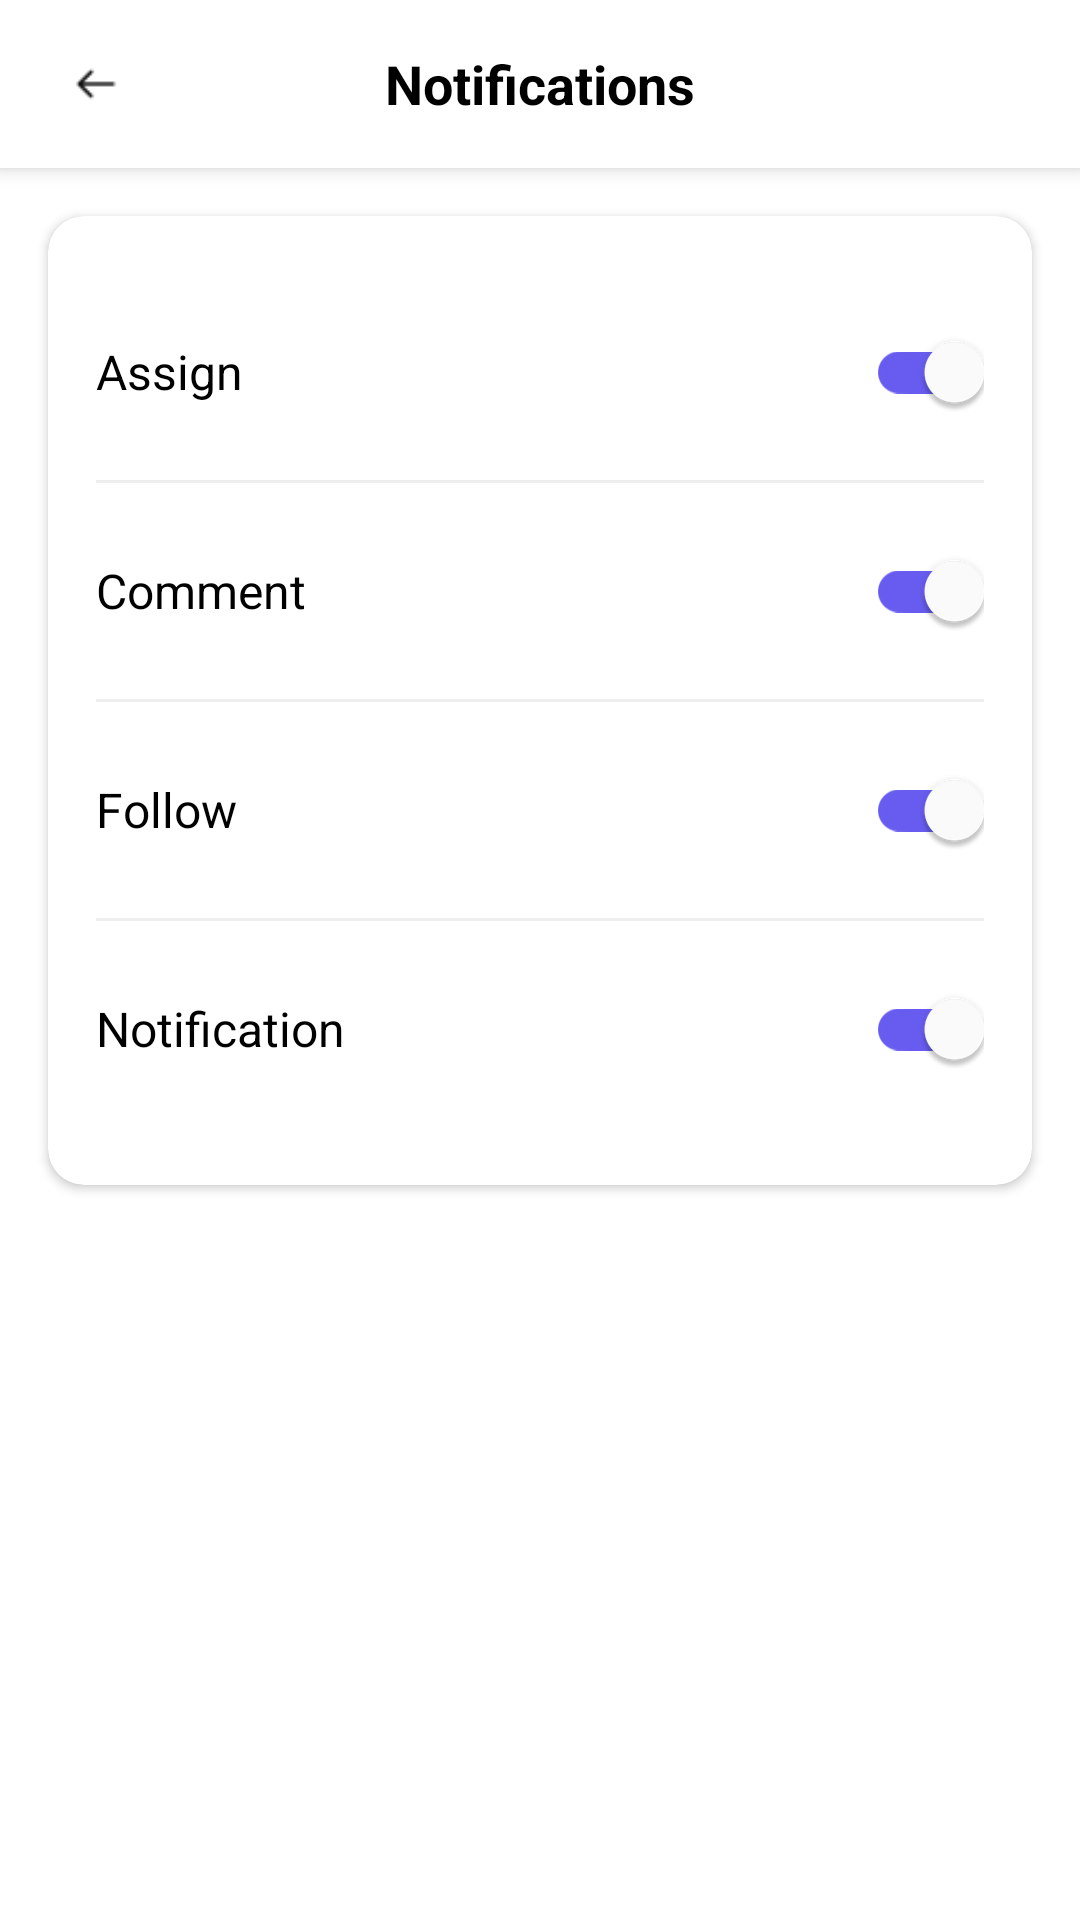

Screen size 1080×1920. Icon name, then its box in pixels as (x1, y1, x2, y2):
back: (76, 69, 116, 99)
